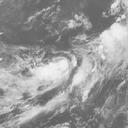cyclone: (34, 46, 101, 95)
